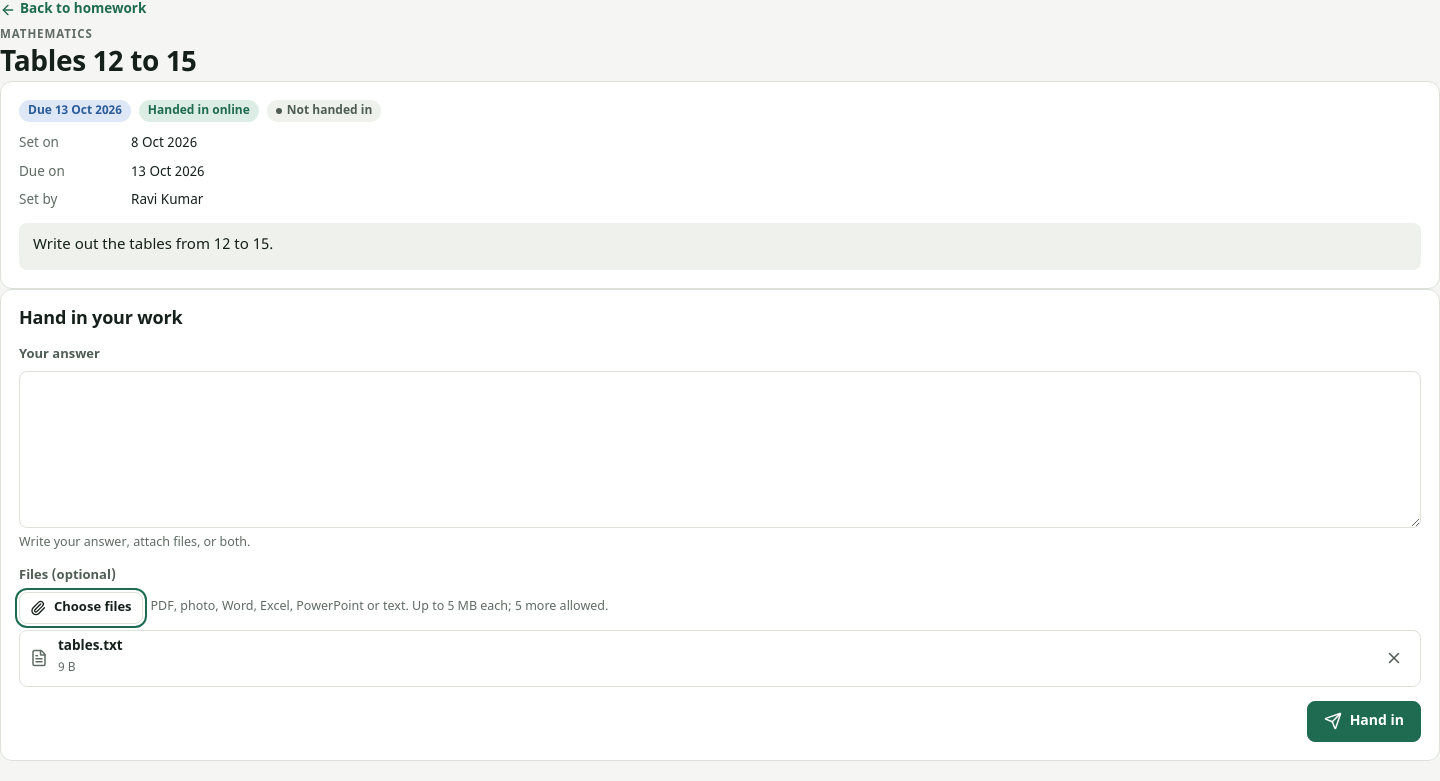
Test: StudentHomeworkDetailView › shows the API's reason when a file is refused
The image size is (1440, 781).
Earlier steps of the test are not shown.
Click the button with test id "submission-send".
click(1364, 721)  # box [1307,701,1421,742]
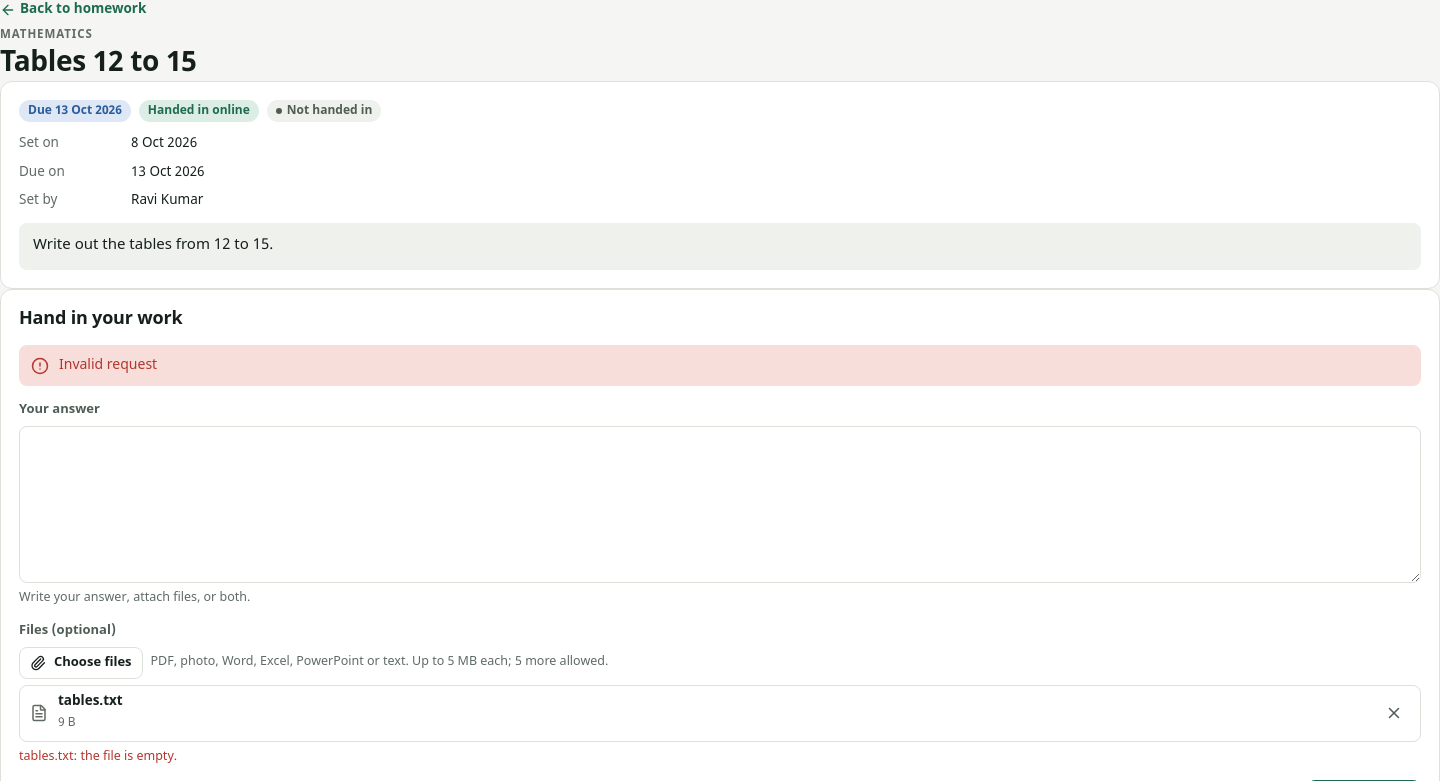
Check: the text "tables.txt: the file is empty." is shown, box [19,749,177,765]
